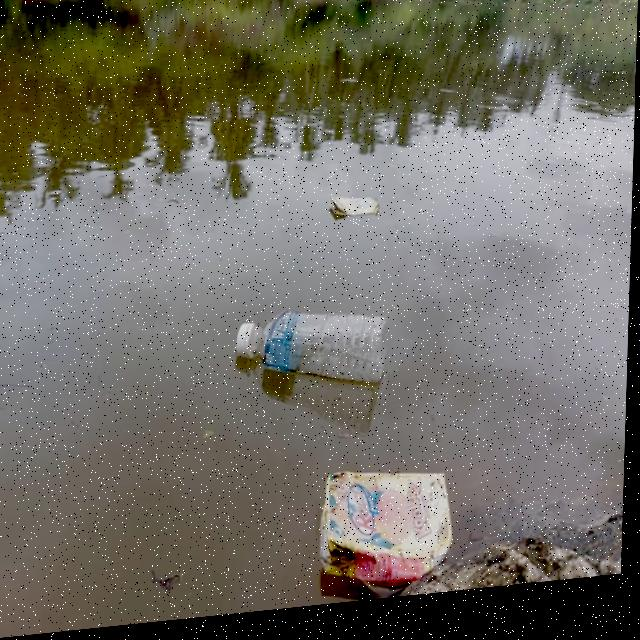paper: (314, 453, 474, 613), (328, 190, 395, 248)
waterbottle: (228, 302, 402, 415)
